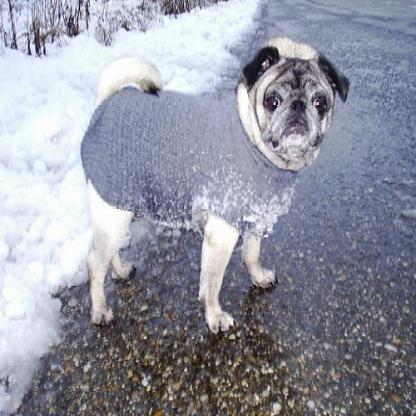pug: (71, 29, 352, 337)
